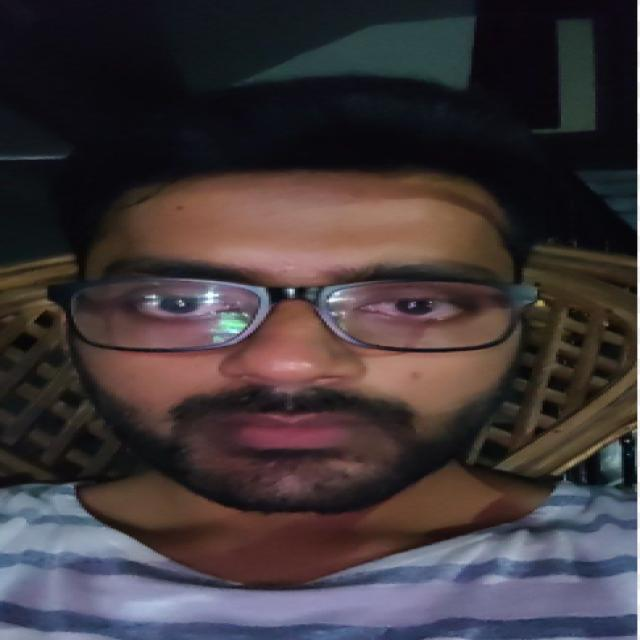face_no_mask: (40, 176, 544, 500)
